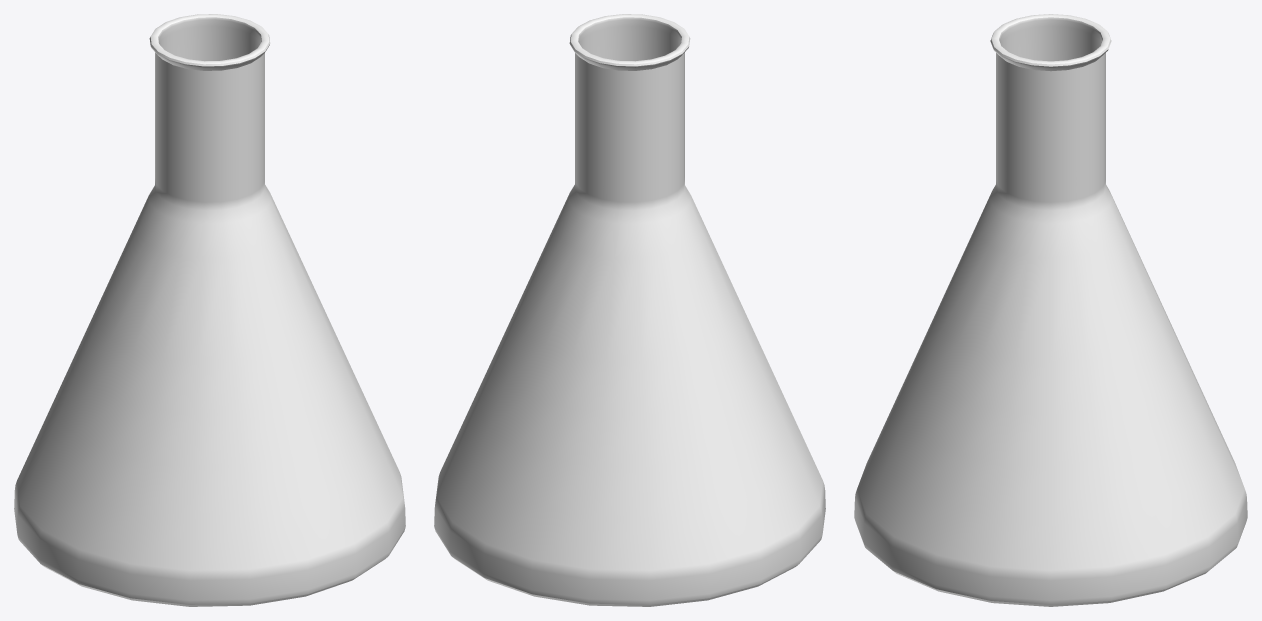
The model's file is Erlenmeyer_flask.glb.
3 views of the same model, side by side, from view 1: azimuth 30°, elevation 25°; view 2: azimuth 150°, elevation 25°; view 3: azimuth 270°, elevation 25° (orthographic).
Visible parts, largest first — view 1: Erlenmeyer_flask1; view 2: Erlenmeyer_flask1; view 3: Erlenmeyer_flask1.
Part boxes in pixels (left/top/right/bottom): Erlenmeyer_flask1: left=14, top=14, right=405, bottom=606; Erlenmeyer_flask1: left=434, top=14, right=825, bottom=606; Erlenmeyer_flask1: left=854, top=14, right=1247, bottom=606.
Size of the model in its own units: 0.1362 by 0.1868 by 0.1362.
1 material, 1 textured.
